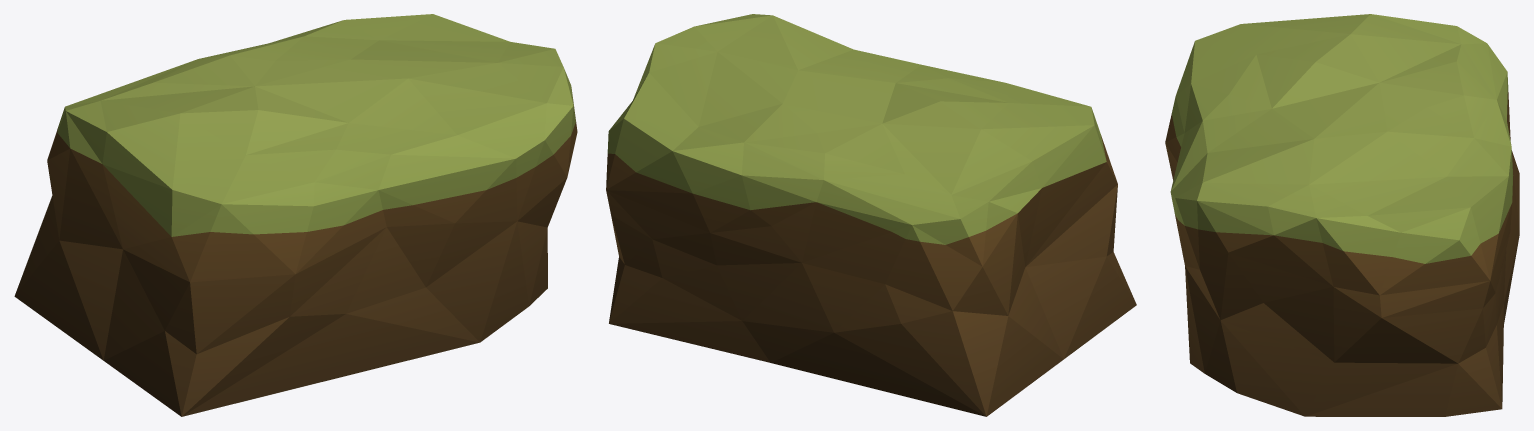
The model's file is Ground_03.fbx.
3 renders of one model, left to right at view 1: azimuth 30°, elevation 25°; view 2: azimuth 150°, elevation 25°; view 3: azimuth 270°, elevation 25°, orthographic. The views are drawn at different scales.
Parts seen in each view (by area): view 1: Ground_03; view 2: Ground_03; view 3: Ground_03.
Part boxes in pixels (x1,y1,x2,y2): Ground_03: (14,14,577,416); Ground_03: (606,14,1136,416); Ground_03: (1165,14,1519,416).
Size of the model in its own units: 7.53 by 3.66 by 5.24.
